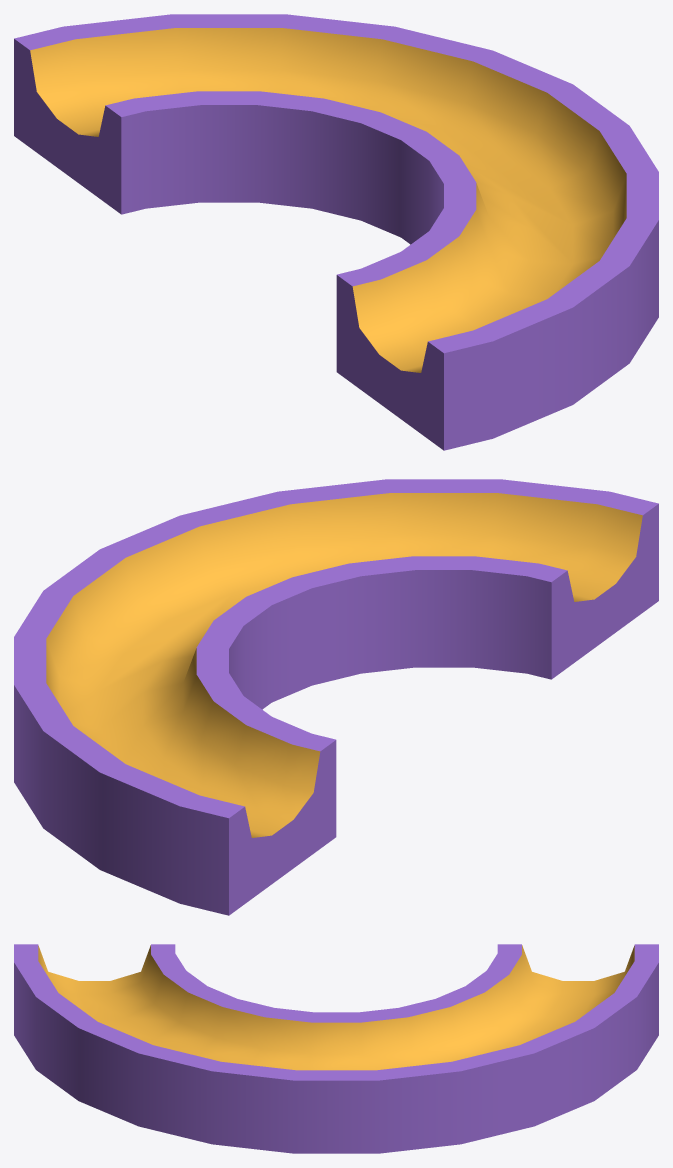
File: bend-medium.glb
3 renders of one model, top to bottom at view 1: azimuth 30°, elevation 25°; view 2: azimuth 150°, elevation 25°; view 3: azimuth 270°, elevation 25°, orthographic. The views are drawn at different scales.
Visible parts, largest first — view 1: bend-medium; view 2: bend-medium; view 3: bend-medium.
Part boxes in pixels (x1,y1,x2,y2): bend-medium: (14,14,658,450); bend-medium: (14,479,658,915); bend-medium: (14,944,658,1153).
Size of the model in its own units: 2 by 0.5 by 4.
Materials: 1 (1 with a texture image).
